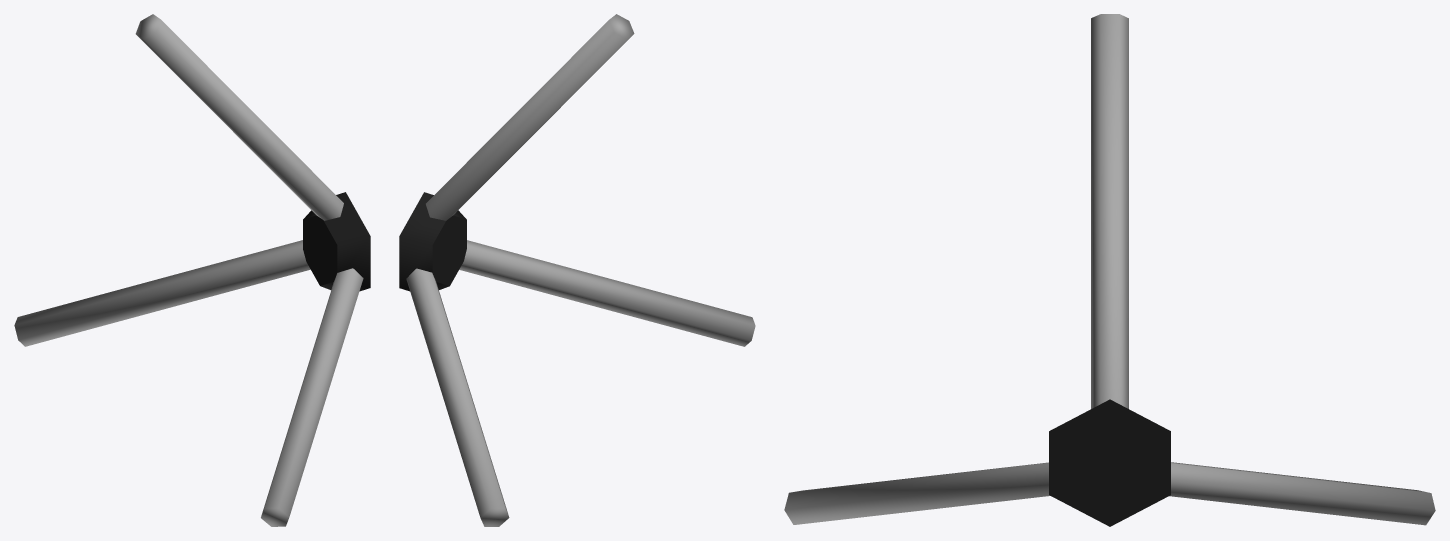
The model's file is SW_PROP_TicketReaderGate_Turnstile.fbx.
The picture shows the model from 3 angles, left to right: view 1: azimuth 30°, elevation 25°; view 2: azimuth 150°, elevation 25°; view 3: azimuth 270°, elevation 25°; orthographic projection. The views are drawn at different scales.
Parts seen in each view (by area): view 1: SW_PROP_TicketReaderGate_Turnstile; view 2: SW_PROP_TicketReaderGate_Turnstile; view 3: SW_PROP_TicketReaderGate_Turnstile.
Boxes of the visible parts, x1,y1,x2,y2 form: SW_PROP_TicketReaderGate_Turnstile: [14, 14, 370, 526]; SW_PROP_TicketReaderGate_Turnstile: [399, 14, 755, 526]; SW_PROP_TicketReaderGate_Turnstile: [784, 14, 1435, 526].
Size of the model in its own units: 0.4634 by 0.8967 by 1.03.
